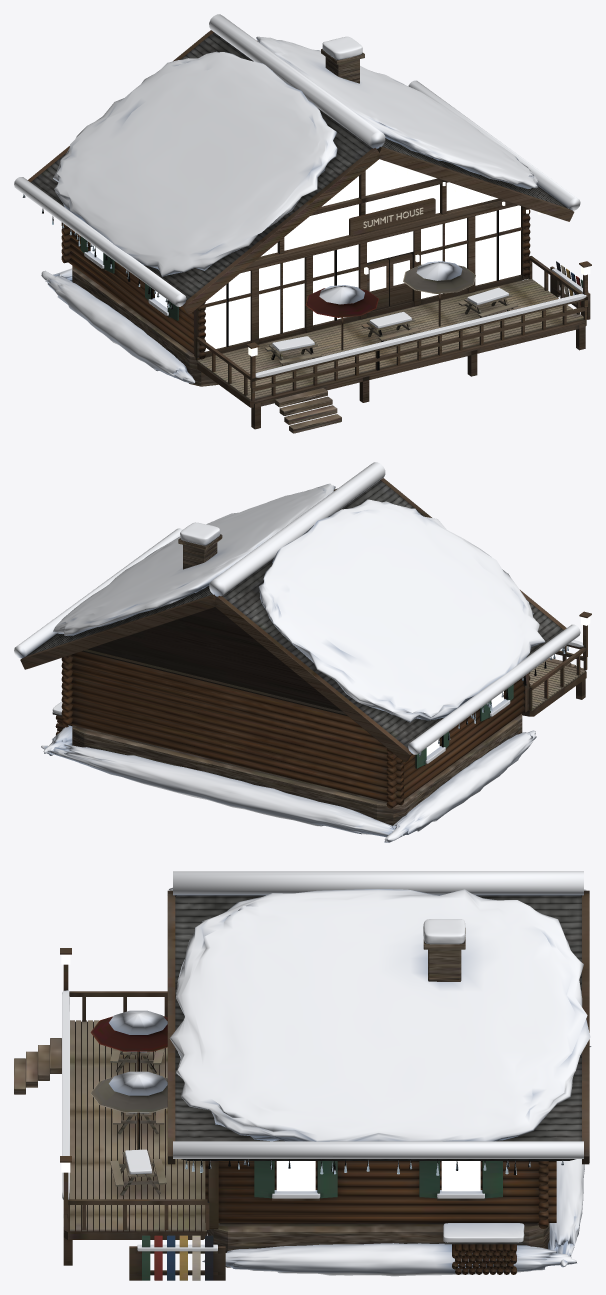
File: restaurant.glb
3 views of the same model, one above another, from view 1: azimuth 30°, elevation 25°; view 2: azimuth 150°, elevation 25°; view 3: azimuth 270°, elevation 25° (orthographic). The views are drawn at different scales.
Parts seen in each view (by area): view 1: restaurant_snow, restaurant, restaurant_lit; view 2: restaurant_snow, restaurant; view 3: restaurant_snow, restaurant, restaurant_lit.
Boxes of the visible parts, left/top/right/bottom form: restaurant_snow: left=14, top=14, right=588, bottom=383; restaurant: left=22, top=30, right=591, bottom=433; restaurant_lit: left=90, top=159, right=520, bottom=351; restaurant_snow: left=14, top=462, right=583, bottom=842; restaurant: left=20, top=478, right=591, bottom=825; restaurant_snow: left=62, top=871, right=591, bottom=1276; restaurant: left=14, top=890, right=589, bottom=1280; restaurant_lit: left=276, top=1161, right=480, bottom=1191.
Size of the model in its own units: 20.03 by 10.8 by 19.26.
5 materials, 1 textured.
